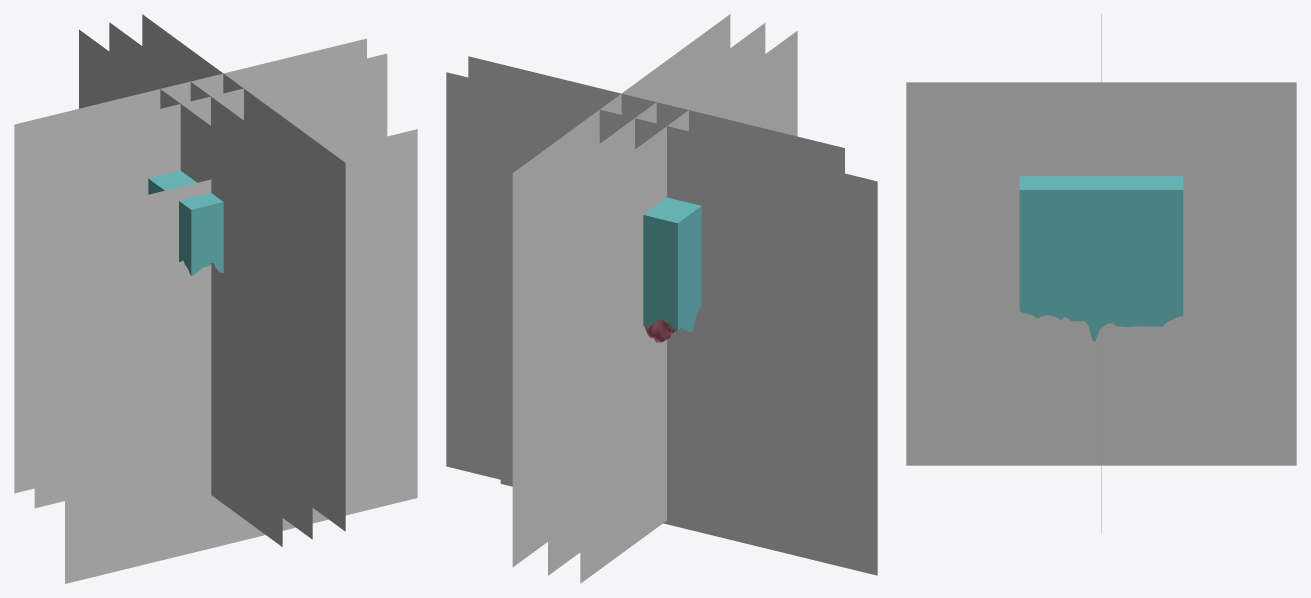
Rendered from m1_assault_0.fbx.
The picture shows the model from 3 angles, left to right: view 1: azimuth 30°, elevation 25°; view 2: azimuth 150°, elevation 25°; view 3: azimuth 270°, elevation 25°; orthographic projection. The views are drawn at different scales.
Visible parts, largest first — view 1: portals, bsp_a_sky; view 2: portals, bsp_a_sky; view 3: portals, bsp_a_sky.
Boxes of the visible parts, box(x1,y1,x2,y2) form: portals: box(14, 14, 417, 583); bsp_a_sky: box(148, 170, 223, 276); portals: box(446, 14, 877, 583); bsp_a_sky: box(643, 197, 701, 332); portals: box(906, 14, 1296, 532); bsp_a_sky: box(1019, 176, 1183, 341).
Bounding box in the file's own units: 100000 × 100000 × 114460.
